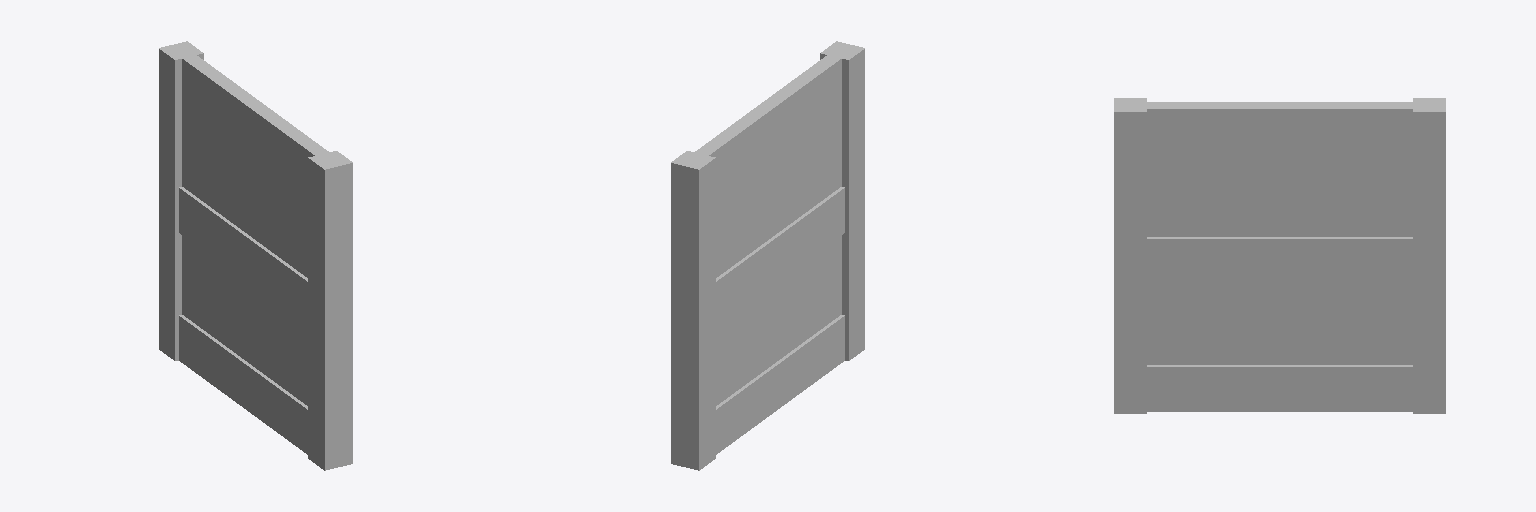
The model's file is wall-wood-detail-horizontal.obj.
The picture shows the model from 3 angles: view 1: azimuth 30°, elevation 25°; view 2: azimuth 150°, elevation 25°; view 3: azimuth 270°, elevation 25°; orthographic projection.
Visible parts, largest first — view 1: wall-wood-detail-horizontal; view 2: wall-wood-detail-horizontal; view 3: wall-wood-detail-horizontal.
Boxes of the visible parts, x1=… form: wall-wood-detail-horizontal: x1=159, y1=41, x2=352, y2=470; wall-wood-detail-horizontal: x1=671, y1=41, x2=864, y2=470; wall-wood-detail-horizontal: x1=1114, y1=98, x2=1445, y2=413.
Bounding box in the file's own units: 0.1 × 1 × 1.